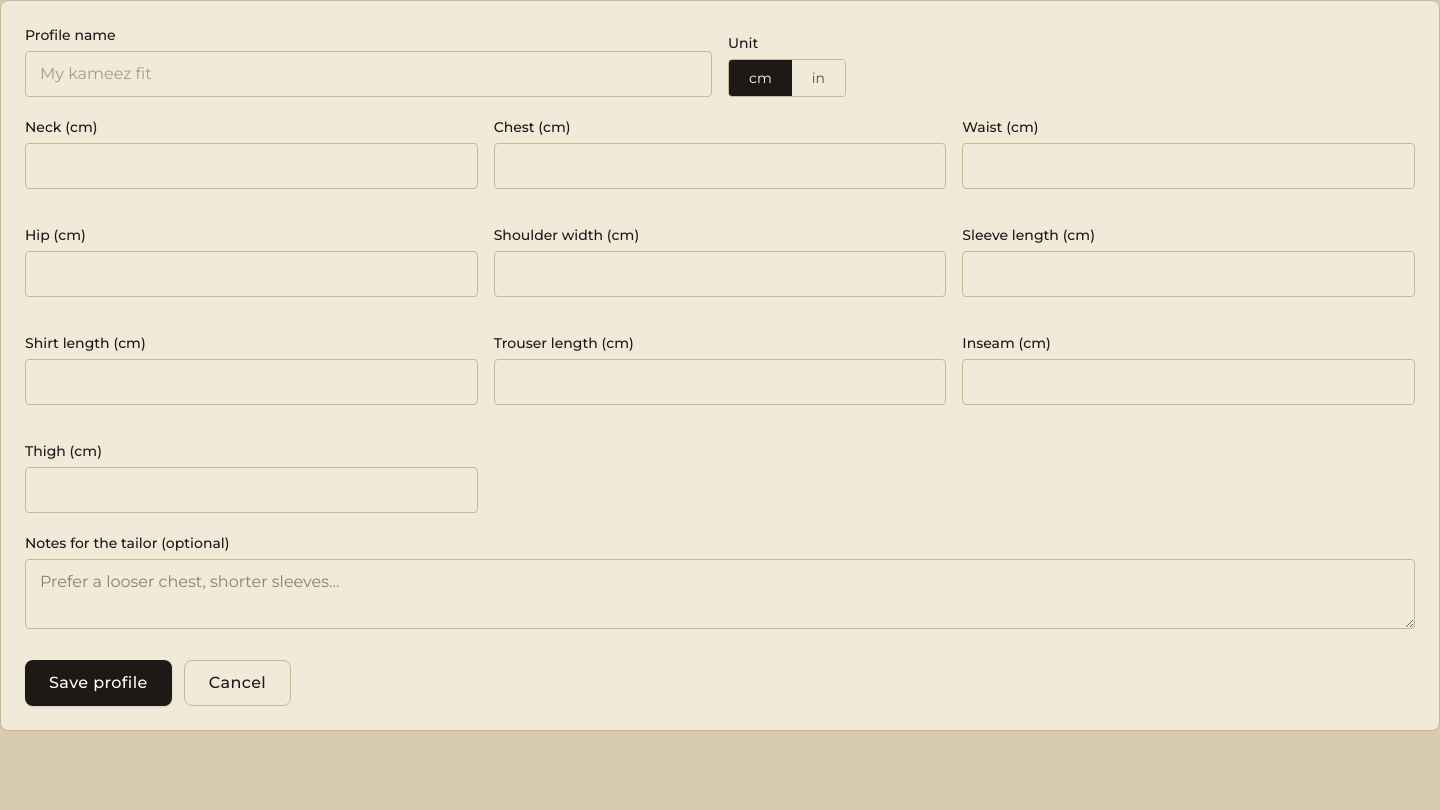
it: MeasurementForm › requires at least one measurement
Type "My fit" into the field labelled "Profile name" at [368, 74], box [25,51,712,97]
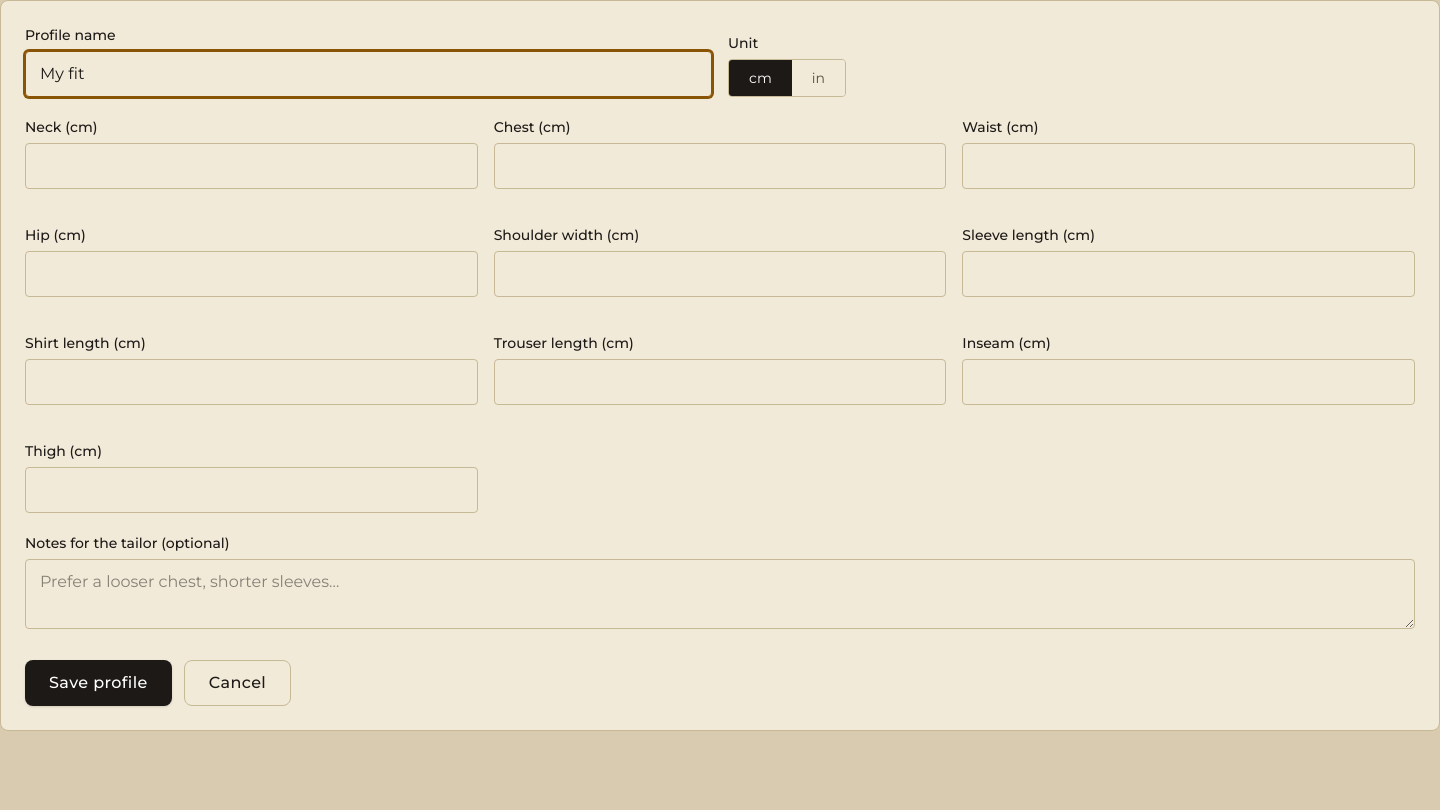
Click the button "Save profile" at [98, 683], box [25,660,172,706]
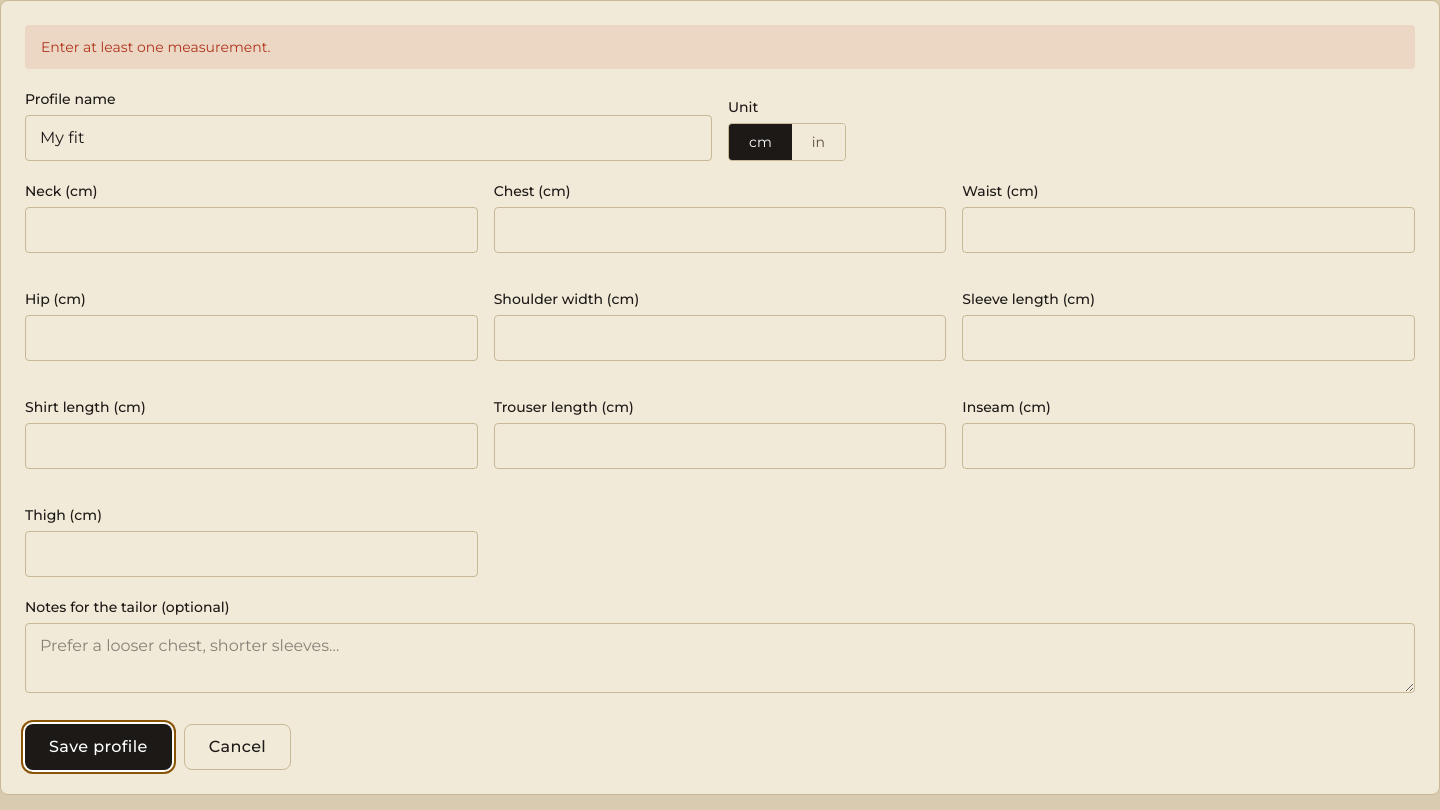
Result: the message shows "at least one" at [41,38,270,56]
